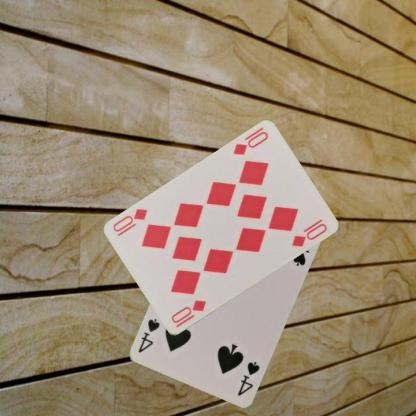10d: (168, 298, 208, 330), (230, 129, 270, 157)
4s: (235, 359, 261, 397)
